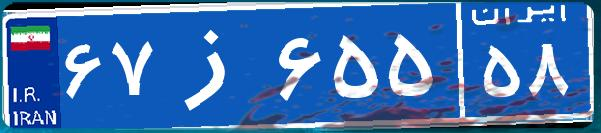5: (385, 28, 445, 110), (330, 28, 385, 110), (475, 38, 525, 113)
6: (273, 28, 330, 110), (57, 26, 110, 107)
7: (110, 28, 158, 105)
8: (525, 38, 570, 115)
ز: (158, 15, 273, 115)
